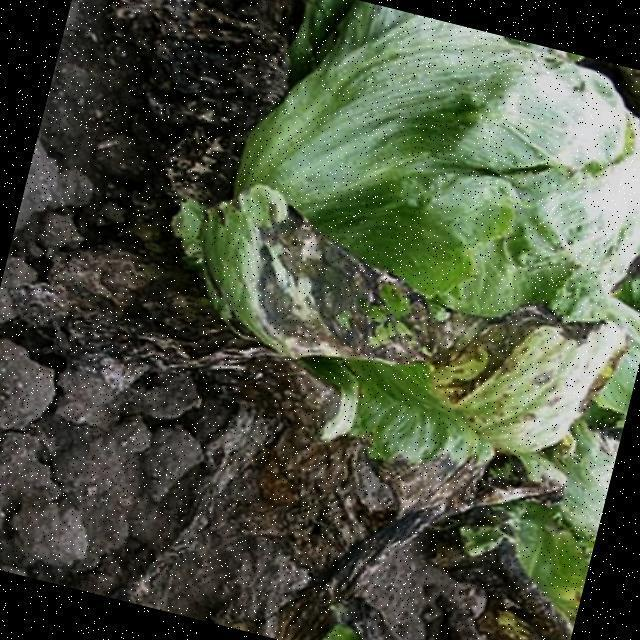Bacterial: (270, 220, 508, 367)
